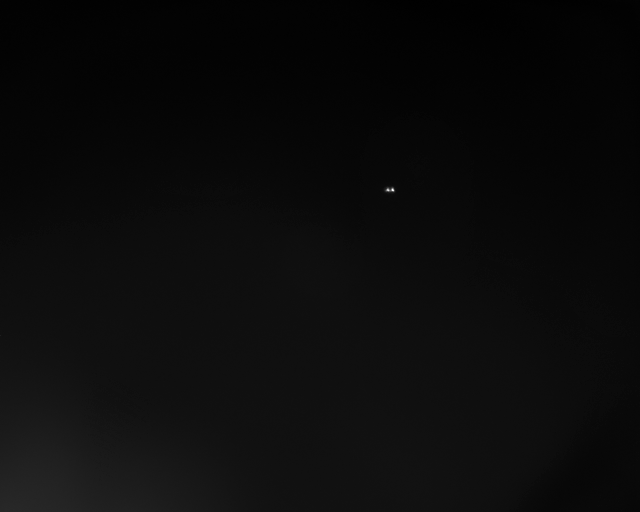Target: (385, 188, 394, 193)
